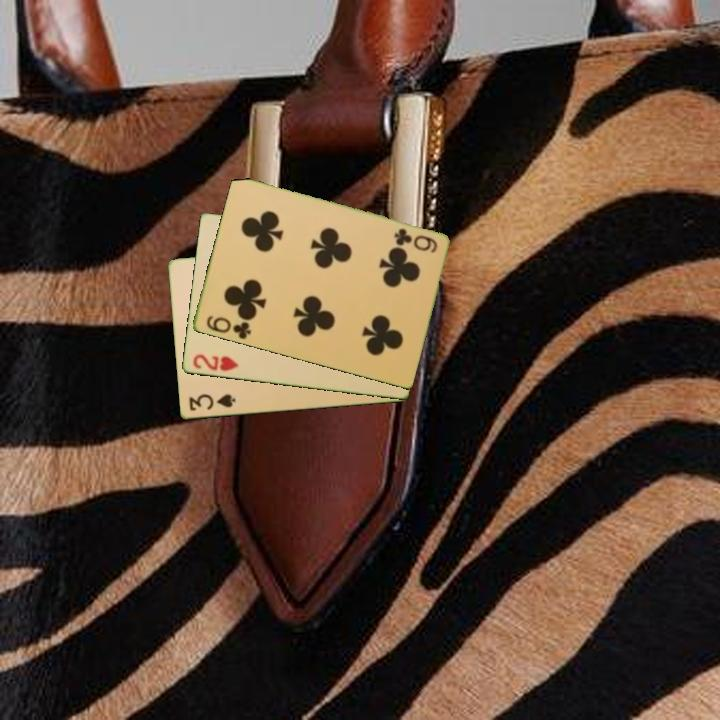2h: (189, 351, 241, 374)
3s: (185, 391, 238, 414)
6c: (202, 312, 254, 342), (390, 225, 440, 256)
